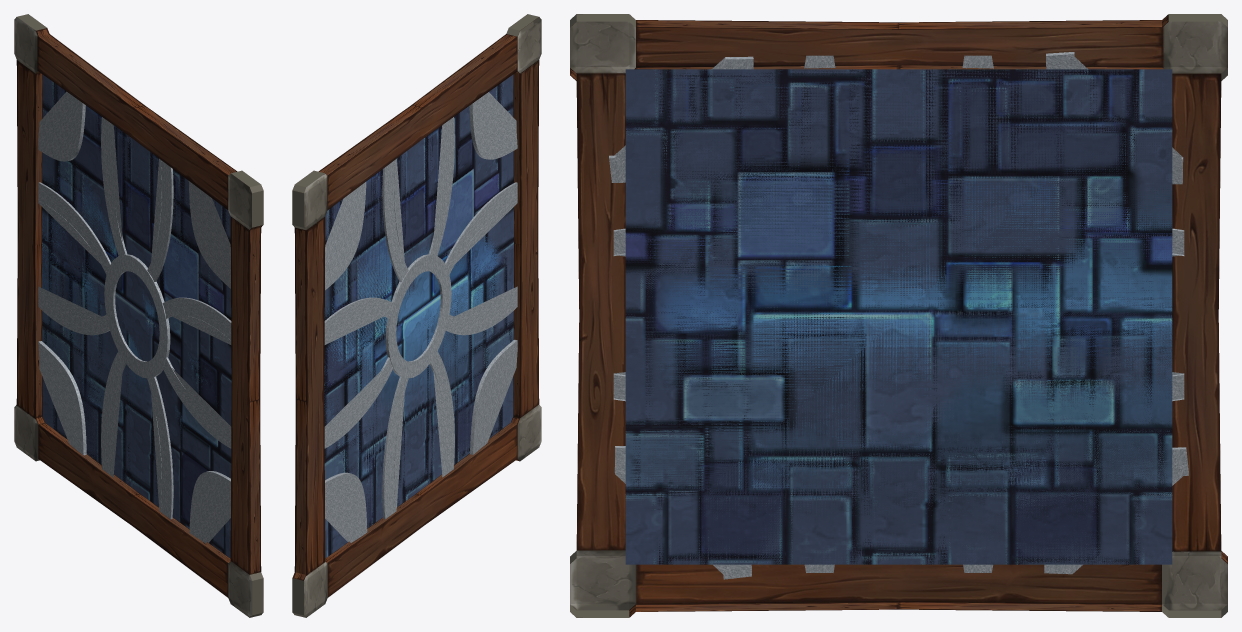
The model's file is WallTower_final.fbx.
The picture shows the model from 3 angles, left to right: view 1: azimuth 30°, elevation 25°; view 2: azimuth 150°, elevation 25°; view 3: azimuth 270°, elevation 25°; orthographic projection. The views are drawn at different scales.
Visible parts, largest first — view 1: Base, Plane, NurbsPath.015; view 2: Base, Plane, NurbsPath.015; view 3: Plane, Base, NurbsPath.015.
Boxes of the visible parts, x1,y1,x2,y2 form: Base: (14, 14, 263, 617); Plane: (42, 75, 231, 558); NurbsPath.015: (38, 91, 231, 543); Base: (292, 14, 541, 617); Plane: (324, 75, 513, 558); NurbsPath.015: (324, 92, 517, 542); Plane: (625, 69, 1172, 564); Base: (570, 14, 1227, 617); NurbsPath.015: (609, 52, 1188, 579).
Bounding box in the file's own units: 0.3 × 10 × 10.
